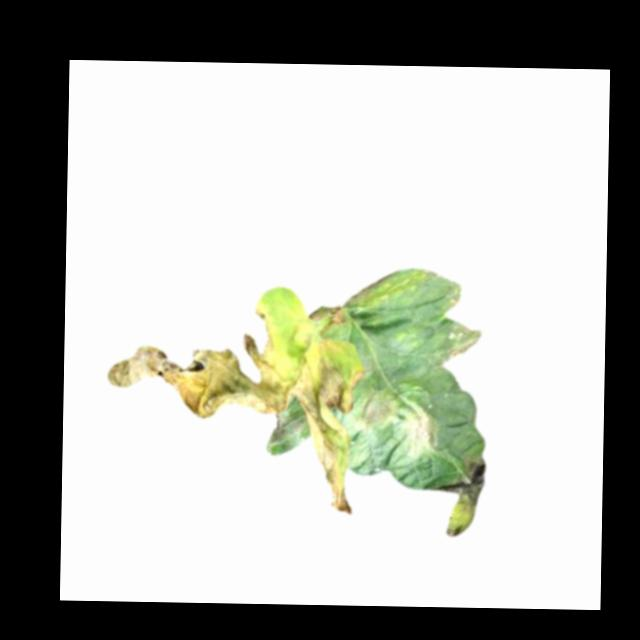Late_blight: (104, 330, 365, 518), (432, 456, 490, 540), (401, 398, 447, 462), (439, 320, 484, 367), (353, 388, 396, 433), (308, 305, 347, 328), (441, 281, 461, 315)
